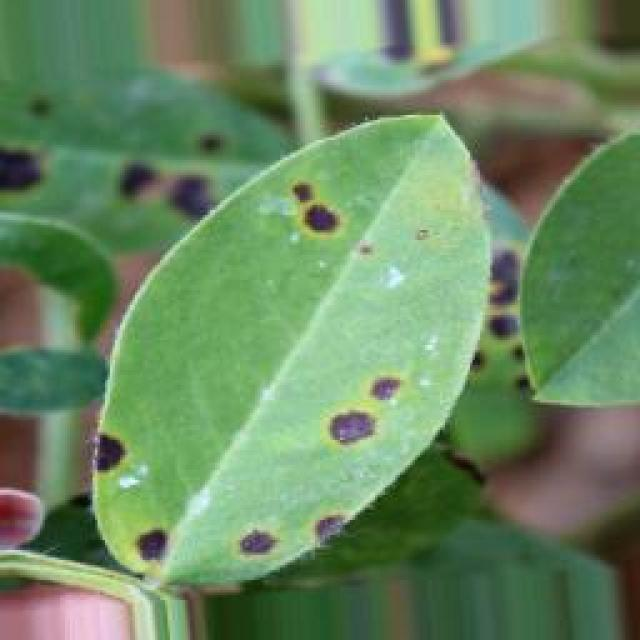Early_leaf_spot: (453, 241, 547, 404), (101, 147, 235, 261), (220, 481, 356, 581), (278, 156, 366, 293), (306, 349, 413, 449), (0, 118, 88, 209), (80, 402, 145, 502), (113, 494, 186, 580)
